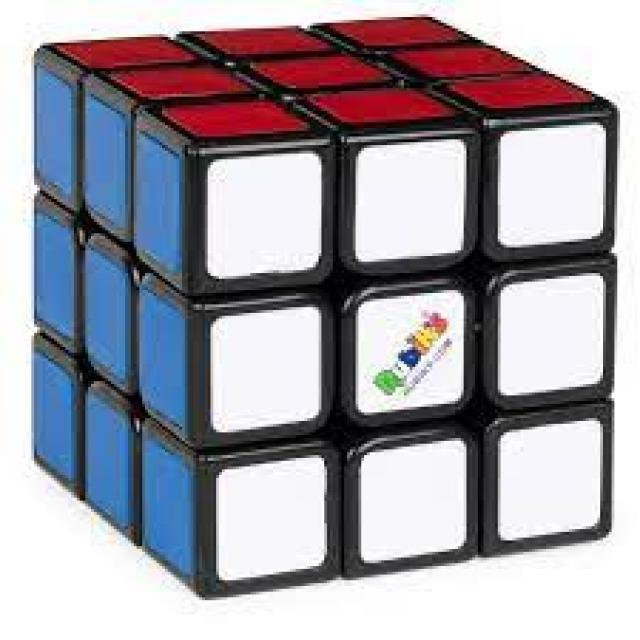Rub: (25, 11, 620, 602)
